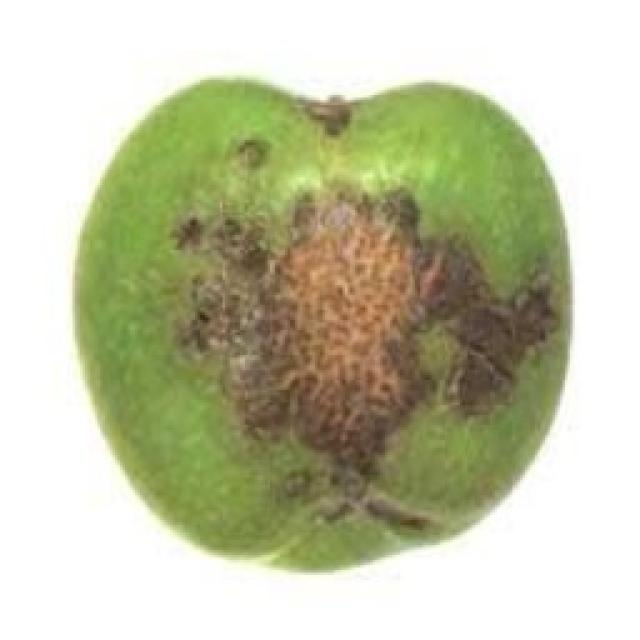defective: (70, 72, 575, 572)
